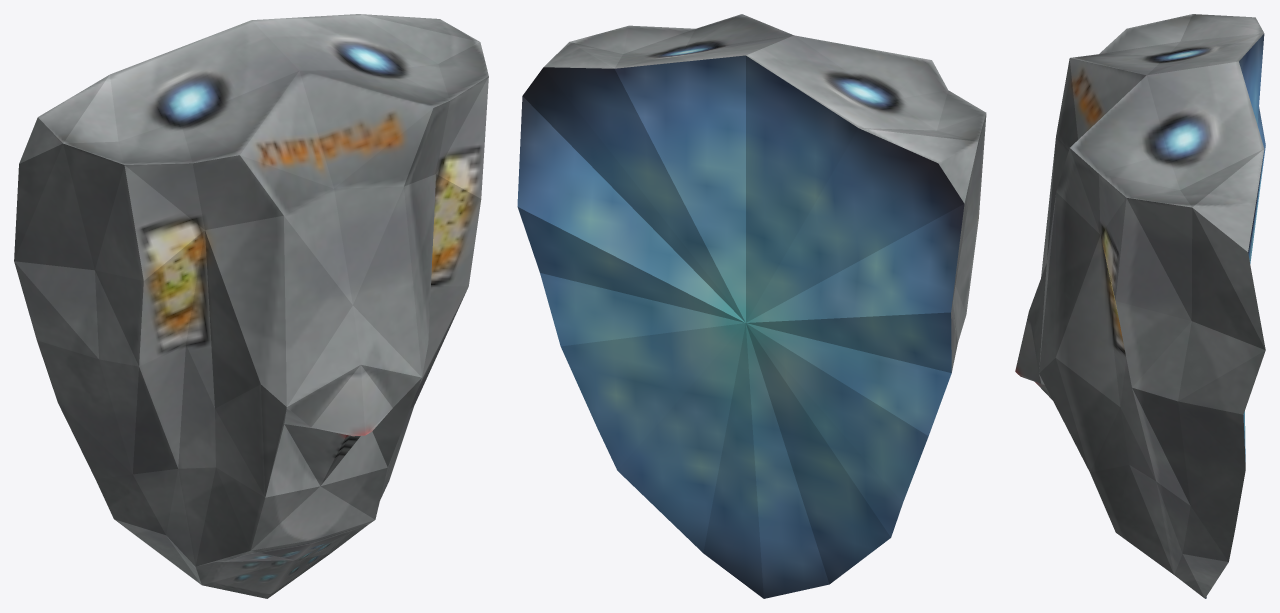
Rendered from Phoenix.obj.
3 renders of one model, left to right at view 1: azimuth 30°, elevation 25°; view 2: azimuth 150°, elevation 25°; view 3: azimuth 270°, elevation 25°, orthographic. The views are drawn at different scales.
Parts seen in each view (by area): view 1: PhoenixUGV_cube1; view 2: PhoenixUGV_cube1; view 3: PhoenixUGV_cube1.
Part boxes in pixels (bbox=[...]): PhoenixUGV_cube1: bbox=[14, 14, 488, 598]; PhoenixUGV_cube1: bbox=[517, 14, 986, 598]; PhoenixUGV_cube1: bbox=[1015, 14, 1265, 598].
Size of the model in its own units: 70.07 by 84.12 by 35.53.
1 material, 1 textured.
